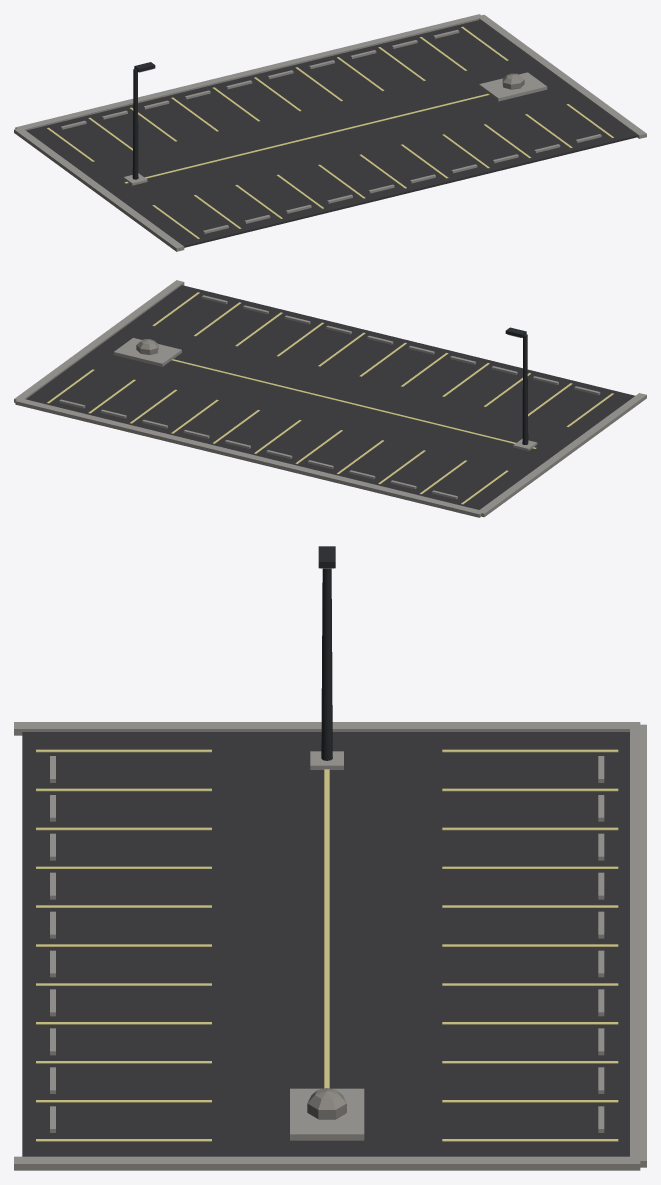
The model's file is parking_lot.glb.
The picture shows the model from 3 angles, top to bottom: view 1: azimuth 30°, elevation 25°; view 2: azimuth 150°, elevation 25°; view 3: azimuth 270°, elevation 25°; orthographic projection. The views are drawn at different scales.
Visible parts, largest first — view 1: parking_lot; view 2: parking_lot; view 3: parking_lot.
Boxes of the visible parts, left/top/right/bottom form: parking_lot: left=14, top=14, right=646, bottom=251; parking_lot: left=14, top=280, right=646, bottom=517; parking_lot: left=14, top=546, right=646, bottom=1170.
Size of the model in its own units: 30.9 by 7.2 by 18.7.
